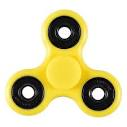fidget_spinner: (1, 2, 126, 121)
